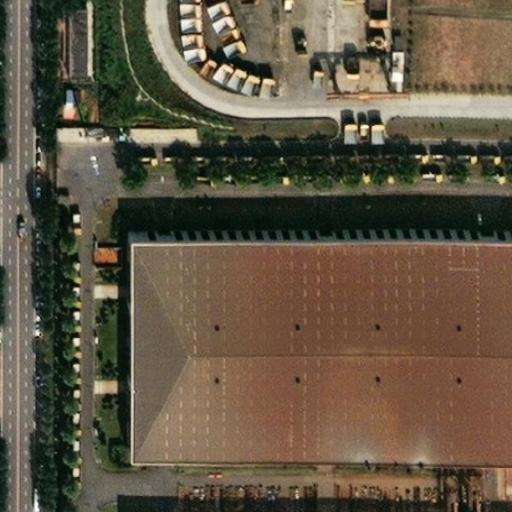building: (112, 218, 512, 436), (126, 120, 197, 139), (49, 120, 101, 140), (388, 28, 403, 80), (253, 68, 274, 93), (337, 116, 354, 140), (59, 84, 75, 107)
